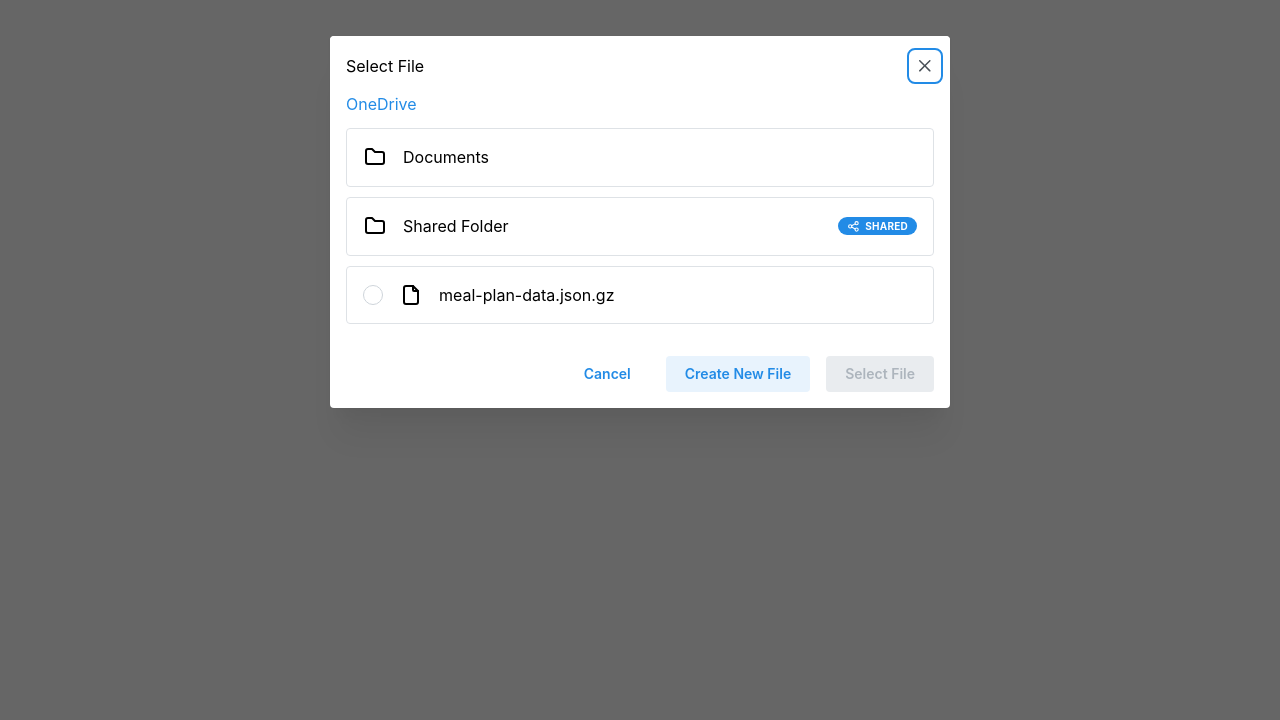
Scenario: FileSelectionModal › File Creation › should validate filename has no invalid characters
This screenshot has width=1280, height=720.
Click the button "Create New File": [738, 374] box [666,356,810,392]
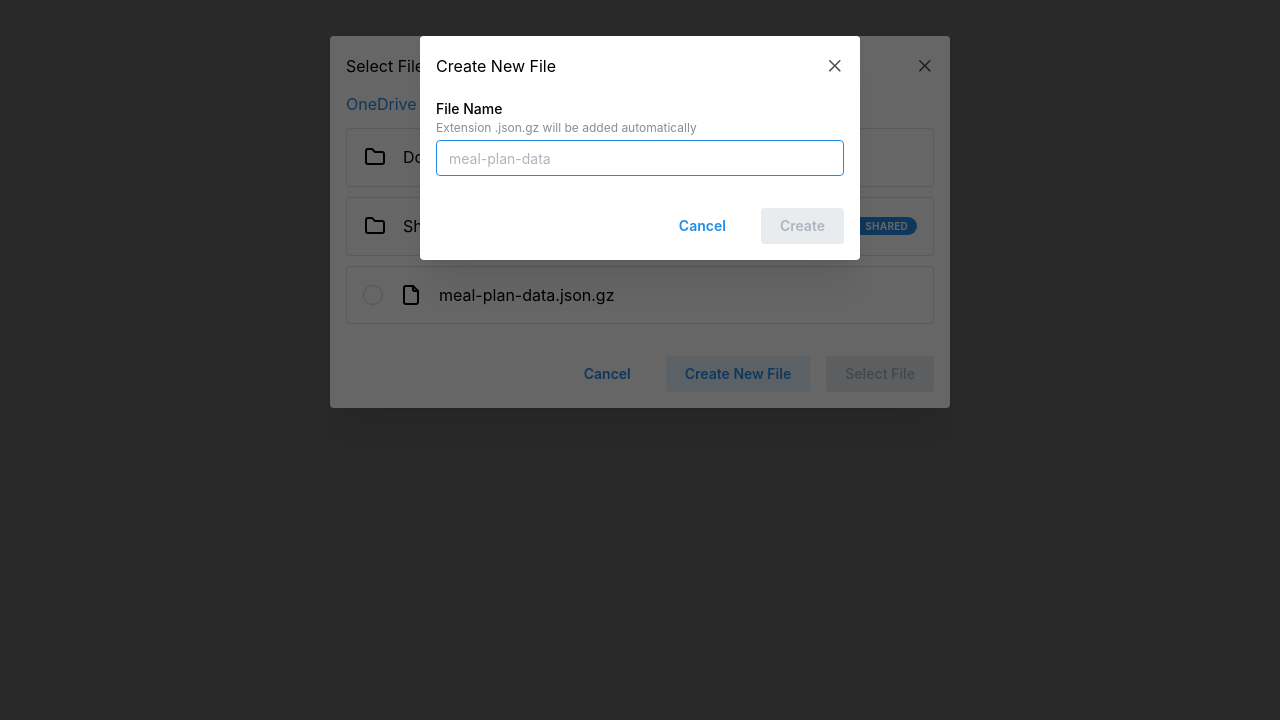
Expected: the field labelled "File Name" is shown
In the field labelled "File Name": [640, 158] box [436,140,844,176], type "invalid/name*.json.gz"
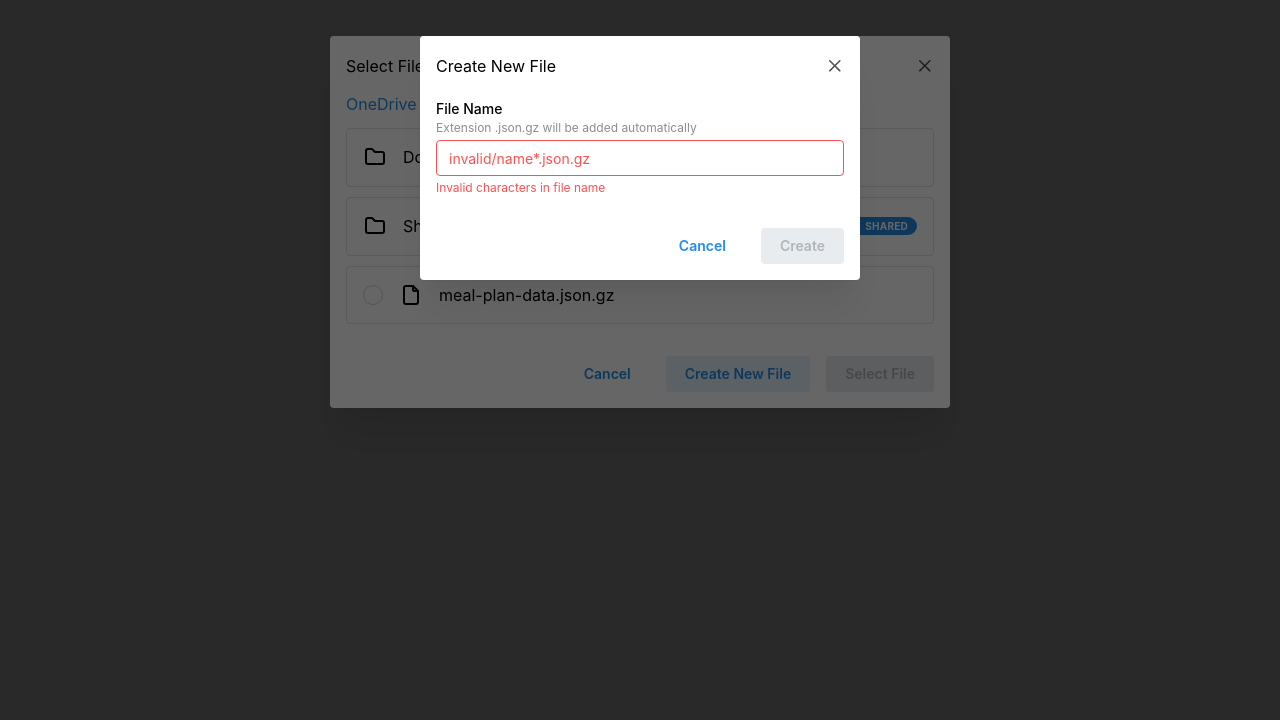
Expected: the text "Invalid characters in file name" is shown, [436,180,605,195]
